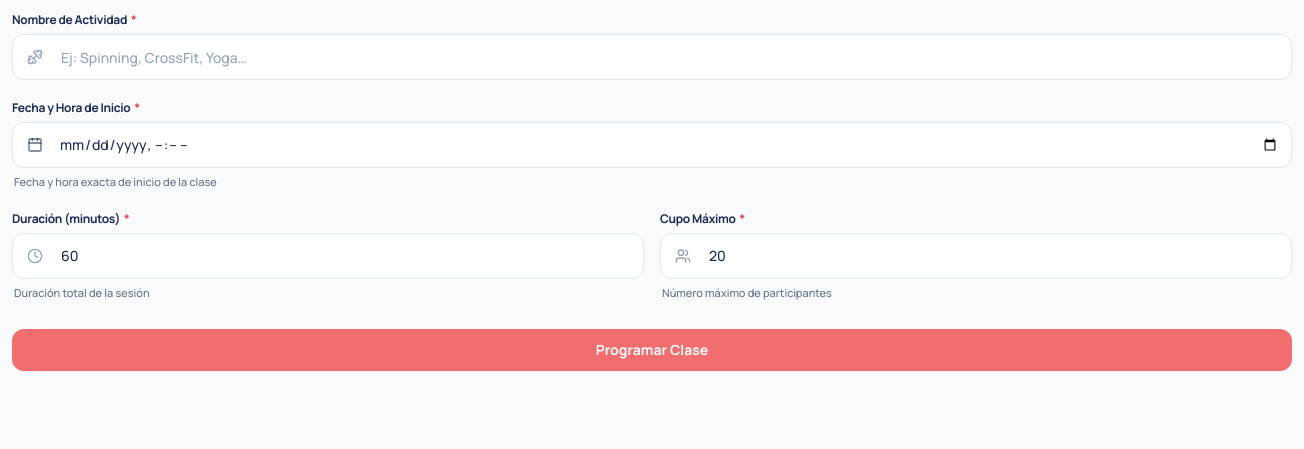
Scenario: ClaseForm Component — Modo Alta › clears field error when user corrects invalid input
Trigger validation
Click the button "Programar Clase" at (652, 350), box [12,329,1292,371]
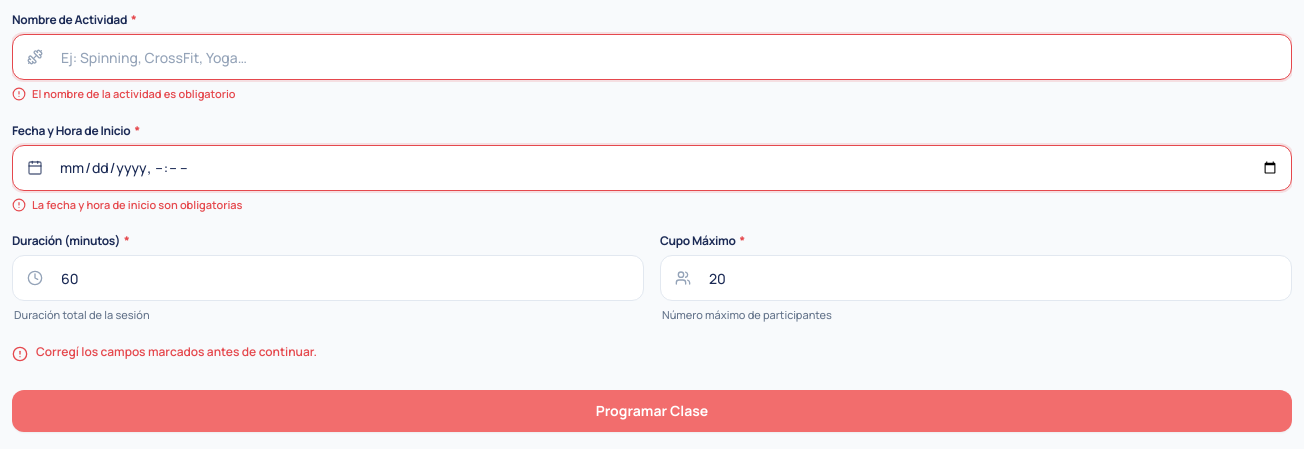
Result: the text "El nombre de la actividad es obligatorio" is shown at [32,86,236,102]
Fix the field
Type "Yoga" into the field labelled "Nombre de Actividad*" at (669, 57), box [47,35,1291,79]
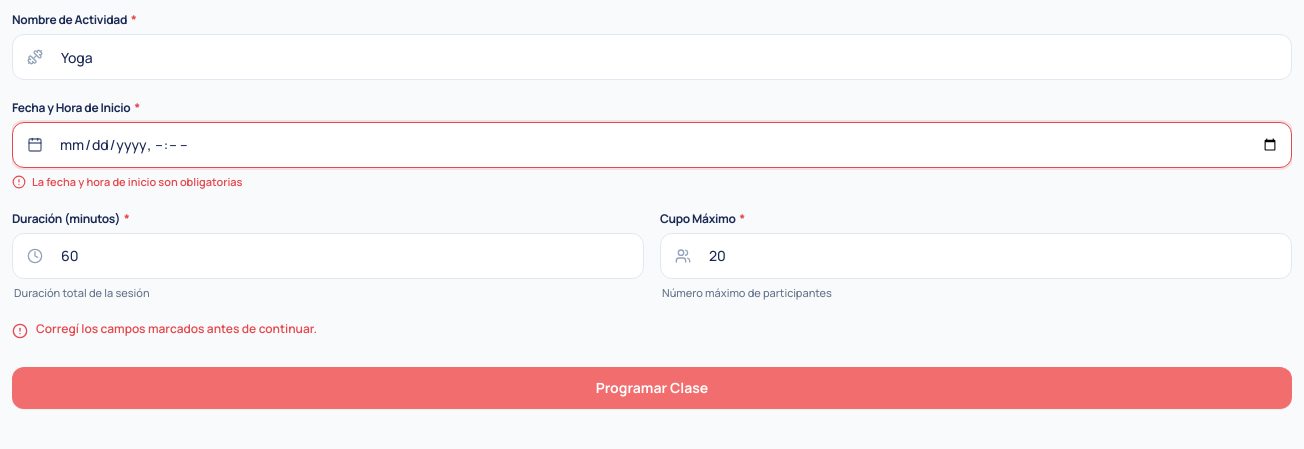
Result: the text "El nombre de la actividad es obligatorio" is gone
